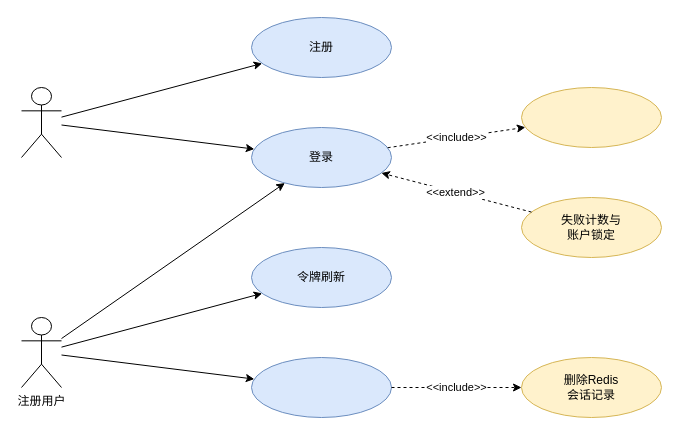
This 679x435 diagram has some shape labels left out. Here are the shapes that lost their labels. From the top down, the centre of each, then its label:
point 41,122: 游客
point 591,117: 凭据校验
point 321,387: 登出
